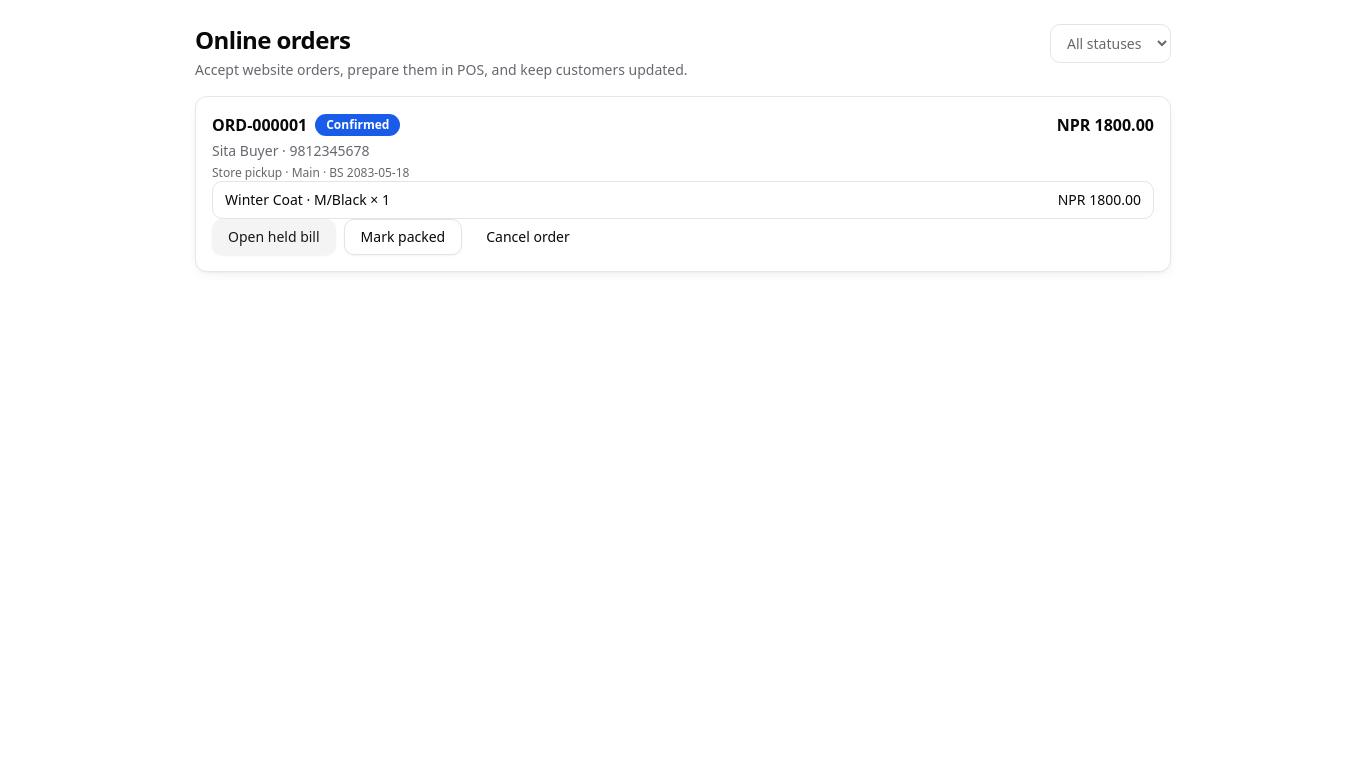
Test: OnlineOrdersPage › asks before opening its bill over one in progress at the counter
Click the button "Open held bill".
click(274, 237)  # box [212,219,336,255]
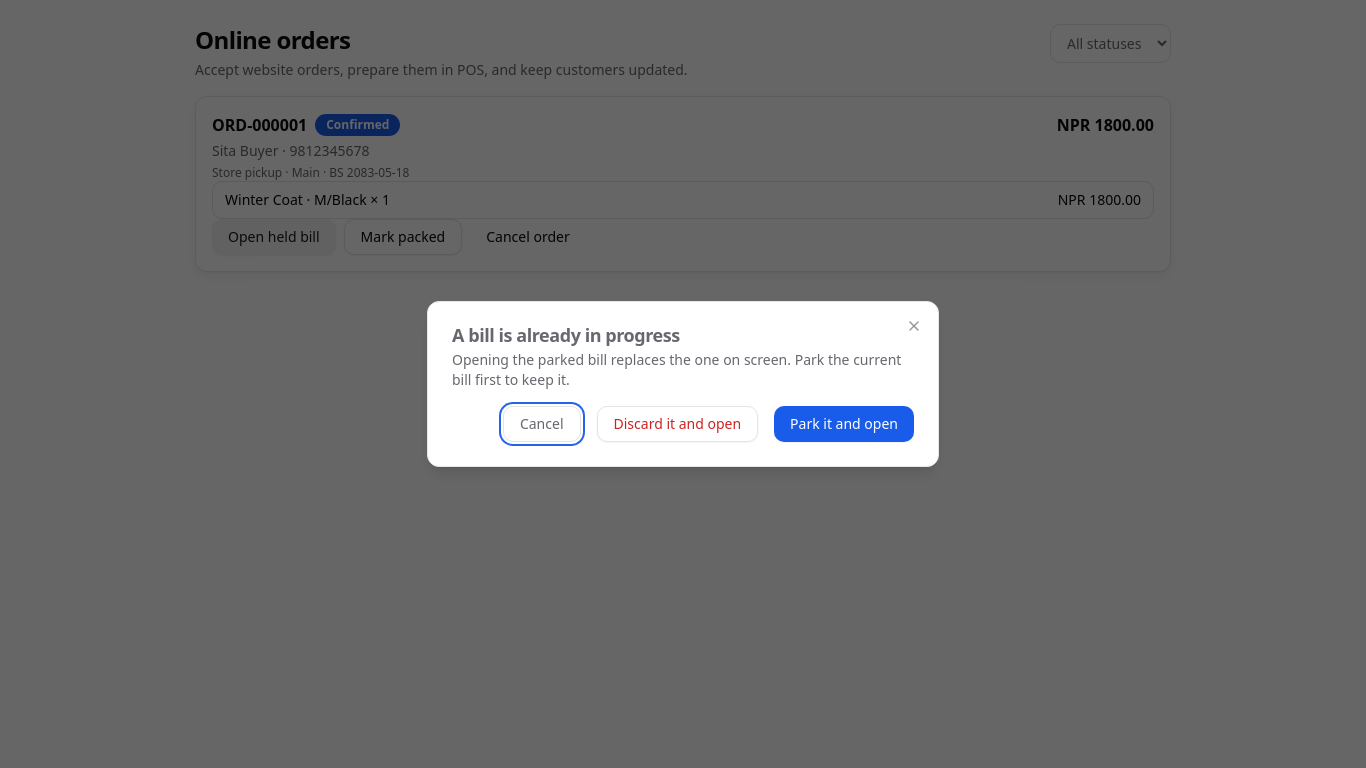
Expected: the dialog is shown, [427,301,939,467]
